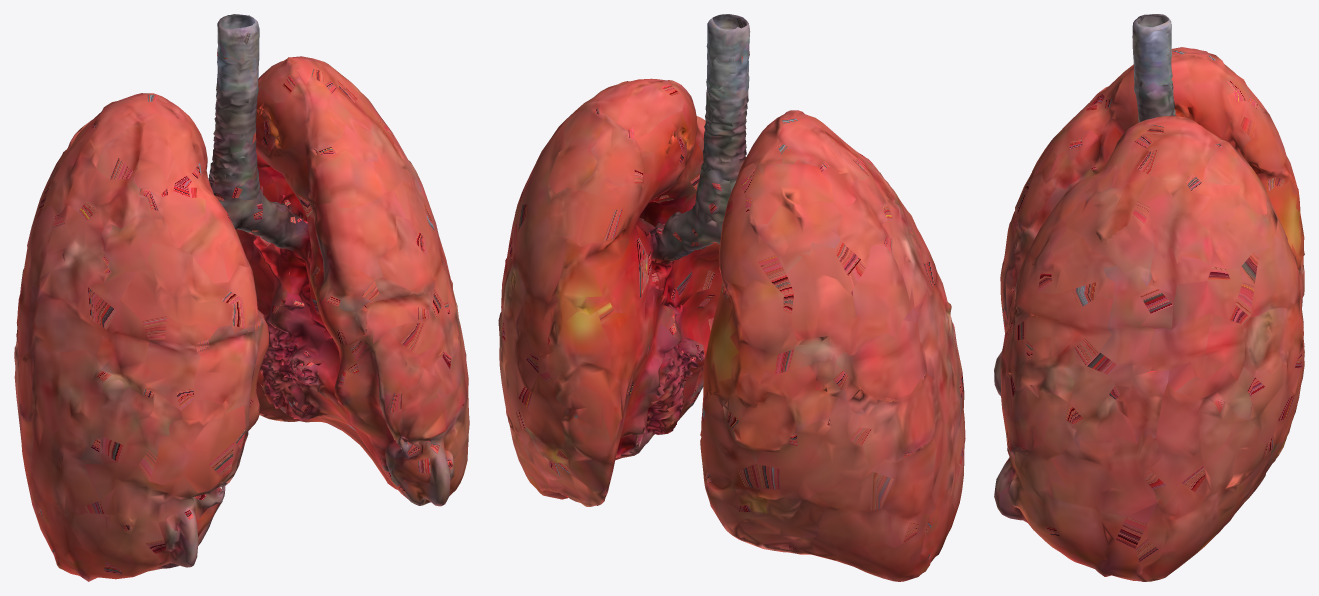
Rendered from lung-lung-pneumonia.glb.
The picture shows the model from 3 angles, left to right: view 1: azimuth 30°, elevation 25°; view 2: azimuth 150°, elevation 25°; view 3: azimuth 270°, elevation 25°; orthographic projection. The views are drawn at different scales.
Parts seen in each view (by area): view 1: Lung; view 2: Lung; view 3: Lung.
Part boxes in pixels (<box>): Lung: <box>14,14,469,581</box>; Lung: <box>498,14,965,581</box>; Lung: <box>994,14,1304,581</box>.
Bounding box in the file's own units: 0.1702 × 0.2011 × 0.1177.
Materials: 1 (1 with a texture image).
